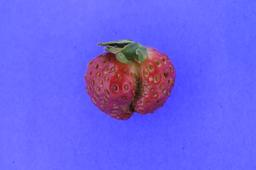red strawberry: (83, 39, 177, 120)
